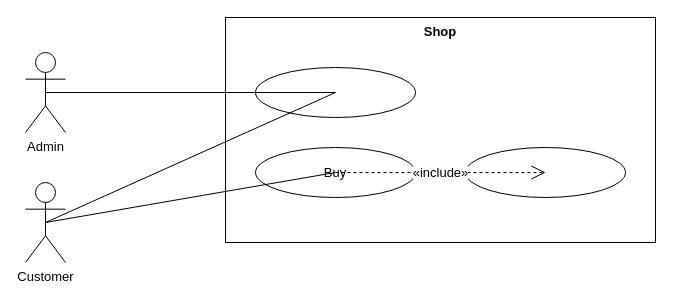
The diagram is 673 pixels wide and 303 high, and some of its shapes have lost their labels. Here are the shapes that lost their labels. From the top down, the centre of each, then its label:
At point 335,92: "Browse".
At point 545,172: "Pay online".
